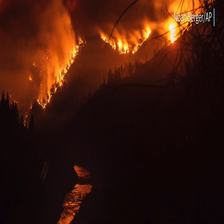fire: (26, 22, 85, 119), (97, 9, 200, 52)
